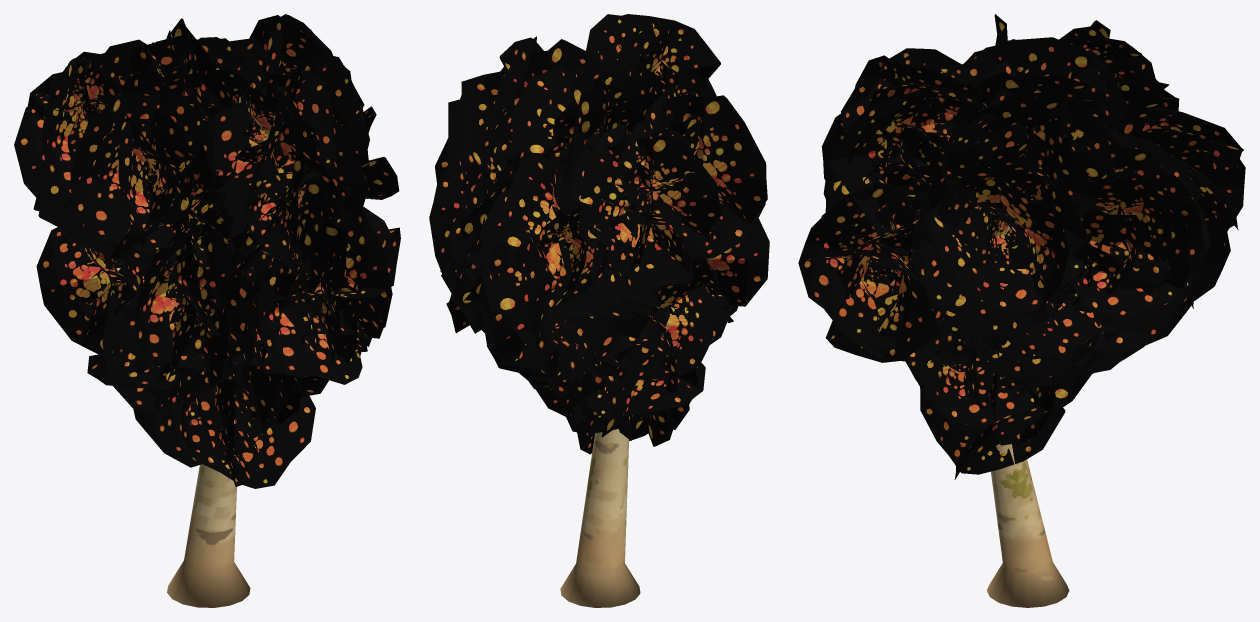
Rendered from tree_with_leaves.fbx.
3 renders of one model, left to right at view 1: azimuth 30°, elevation 25°; view 2: azimuth 150°, elevation 25°; view 3: azimuth 270°, elevation 25°, orthographic. The views are drawn at different scales.
Visible parts, largest first — view 1: Cylinder, Cylinder|leaves|Dupli|912, Cylinder|leaves|Dupli|840, Cylinder|leaves|Dupli|881, Cylinder|leaves|Dupli|627, Cylinder|leaves|Dupli|660, Cylinder|leaves|Dupli|640, Cylinder|leaves|Dupli|353, Cylinder|leaves|Dupli|721, Cylinder|leaves|Dupli|193, Cylinder|leaves|Dupli|944, Cylinder|leaves|Dupli|917 (+61 smaller); view 2: Cylinder, Cylinder|leaves|Dupli|912, Cylinder|leaves|Dupli|620, Cylinder|leaves|Dupli|193, Cylinder|leaves|Dupli|621, Cylinder|leaves|Dupli|233, Cylinder|leaves|Dupli|628, Cylinder|leaves|Dupli|728, Cylinder|leaves|Dupli|353, Cylinder|leaves|Dupli|852, Cylinder|leaves|Dupli|251, Cylinder|leaves|Dupli|648 (+47 smaller); view 3: Cylinder, Cylinder|leaves|Dupli|721, Cylinder|leaves|Dupli|627, Cylinder|leaves|Dupli|989, Cylinder|leaves|Dupli|55, Cylinder|leaves|Dupli|988, Cylinder|leaves|Dupli|881, Cylinder|leaves|Dupli|728, Cylinder|leaves|Dupli|683, Cylinder|leaves|Dupli|664, Cylinder|leaves|Dupli|620, Cylinder|leaves|Dupli|967 (+64 smaller).
Part boxes in pixels (x1,y1,x2,y2): Cylinder: (79, 108, 287, 607); Cylinder|leaves|Dupli|912: (70, 93, 209, 255); Cylinder|leaves|Dupli|840: (36, 227, 109, 355); Cylinder|leaves|Dupli|881: (257, 251, 362, 384); Cylinder|leaves|Dupli|627: (202, 84, 367, 210); Cylinder|leaves|Dupli|660: (162, 396, 315, 488); Cylinder|leaves|Dupli|640: (216, 70, 336, 195); Cylinder|leaves|Dupli|353: (135, 224, 204, 371); Cylinder|leaves|Dupli|721: (339, 207, 392, 338); Cylinder|leaves|Dupli|193: (41, 58, 128, 197); Cylinder|leaves|Dupli|944: (121, 72, 204, 246); Cylinder|leaves|Dupli|917: (118, 110, 207, 254); Cylinder: (560, 241, 640, 607); Cylinder|leaves|Dupli|912: (656, 94, 767, 223); Cylinder|leaves|Dupli|620: (498, 157, 620, 321); Cylinder|leaves|Dupli|193: (560, 132, 721, 236); Cylinder|leaves|Dupli|621: (480, 189, 639, 348); Cylinder|leaves|Dupli|233: (578, 123, 706, 260); Cylinder|leaves|Dupli|628: (596, 14, 720, 83); Cylinder|leaves|Dupli|728: (461, 39, 601, 153); Cylinder|leaves|Dupli|353: (706, 218, 769, 306); Cylinder|leaves|Dupli|852: (627, 282, 713, 380); Cylinder|leaves|Dupli|251: (570, 129, 692, 291); Cylinder|leaves|Dupli|648: (585, 362, 705, 419); Cylinder: (987, 226, 1069, 607); Cylinder|leaves|Dupli|721: (798, 185, 920, 337); Cylinder|leaves|Dupli|627: (827, 77, 947, 227); Cylinder|leaves|Dupli|989: (930, 200, 1083, 310); Cylinder|leaves|Dupli|55: (965, 37, 1118, 134); Cylinder|leaves|Dupli|988: (996, 175, 1068, 319); Cylinder|leaves|Dupli|881: (826, 228, 940, 362); Cylinder|leaves|Dupli|728: (952, 72, 1098, 217); Cylinder|leaves|Dupli|683: (916, 352, 1037, 428); Cylinder|leaves|Dupli|664: (920, 387, 1065, 474); Cylinder|leaves|Dupli|620: (1115, 111, 1243, 185); Cylinder|leaves|Dupli|967: (1008, 126, 1088, 272).
Size of the model in its own units: 636 by 1070 by 791.
